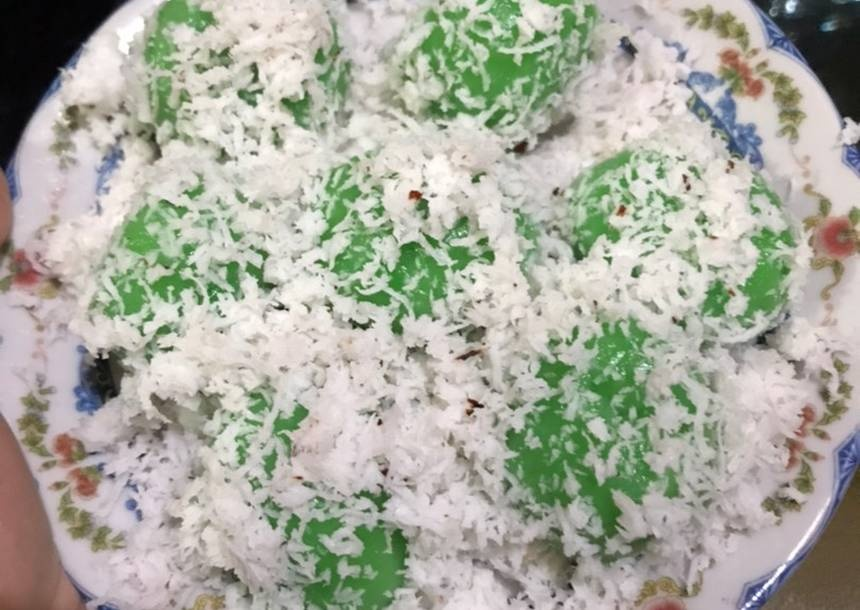klepon: (431, 268, 741, 547)
